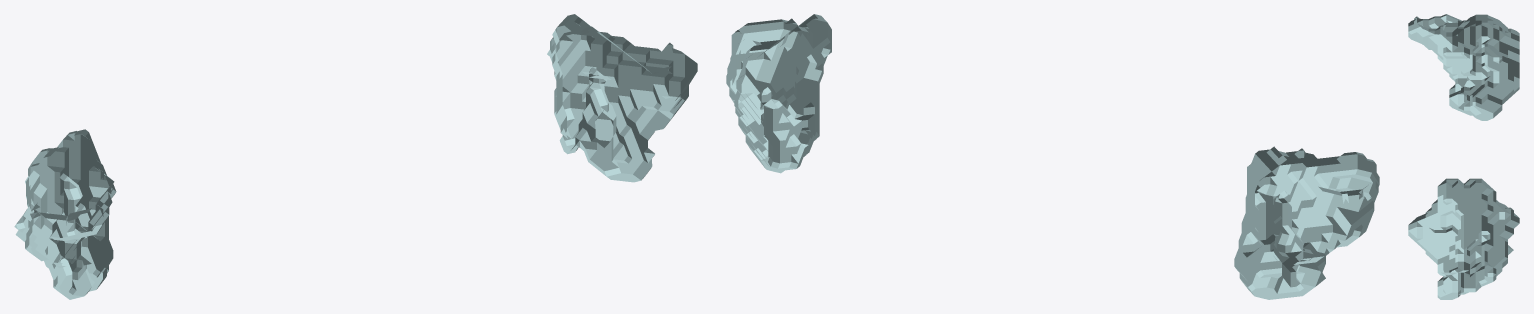
File: region_0115_PO__posterior_pretectal_nucleus_.glb
The picture shows the model from 3 angles, left to right: view 1: azimuth 30°, elevation 25°; view 2: azimuth 150°, elevation 25°; view 3: azimuth 270°, elevation 25°; orthographic projection. The views are drawn at different scales.
Visible parts, largest first — view 1: world; view 2: world; view 3: world.
Part boxes in pixels (x1,y1,x2,y2): world: (14, 14, 697, 299); world: (726, 14, 1379, 299); world: (1408, 14, 1519, 299).
Bounding box in the file's own units: 0.72 × 0.16 × 0.152.
